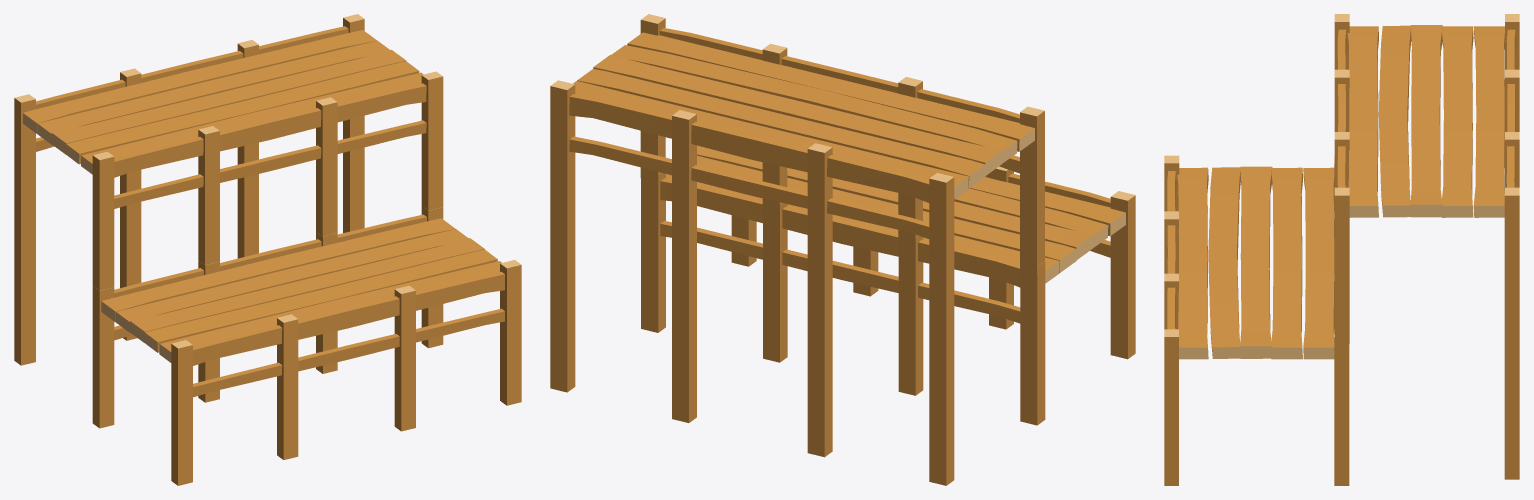
The model's file is flower-display.glb.
3 renders of one model, left to right at view 1: azimuth 30°, elevation 25°; view 2: azimuth 150°, elevation 25°; view 3: azimuth 270°, elevation 25°, orthographic. The views are drawn at different scales.
Visible parts, largest first — view 1: Dock_FirstAge.001, Dock_FirstAge; view 2: Dock_FirstAge.001, Dock_FirstAge; view 3: Dock_FirstAge.001, Dock_FirstAge.
Part boxes in pixels (x1=…): Dock_FirstAge.001: x1=14, y1=14, x2=443, y2=365; Dock_FirstAge: x1=92, y1=206, x2=521, y2=485; Dock_FirstAge.001: x1=550, y1=14, x2=1044, y2=485; Dock_FirstAge: x1=641, y1=145, x2=1135, y2=425; Dock_FirstAge.001: x1=1334, y1=14, x2=1519, y2=479; Dock_FirstAge: x1=1164, y1=155, x2=1349, y2=485.
Bounding box in the file's own units: 1.22 × 0.909 × 1.01.
